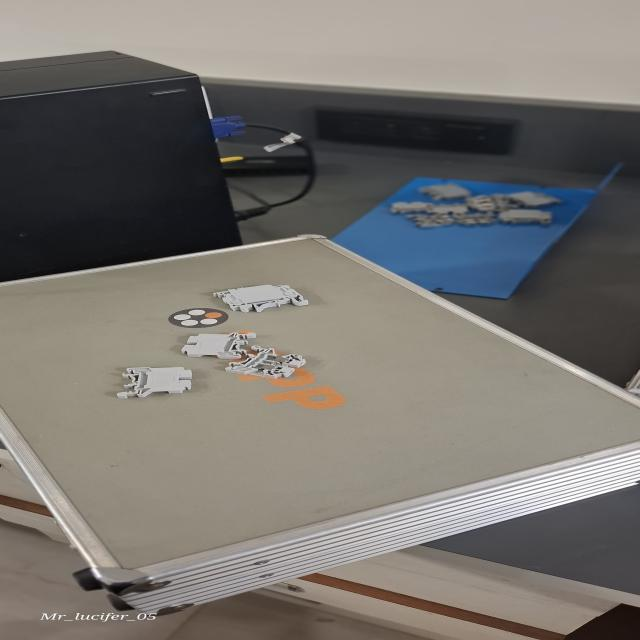Inverted: (177, 326, 266, 362), (116, 364, 198, 402)
Pass: (224, 345, 308, 379)
